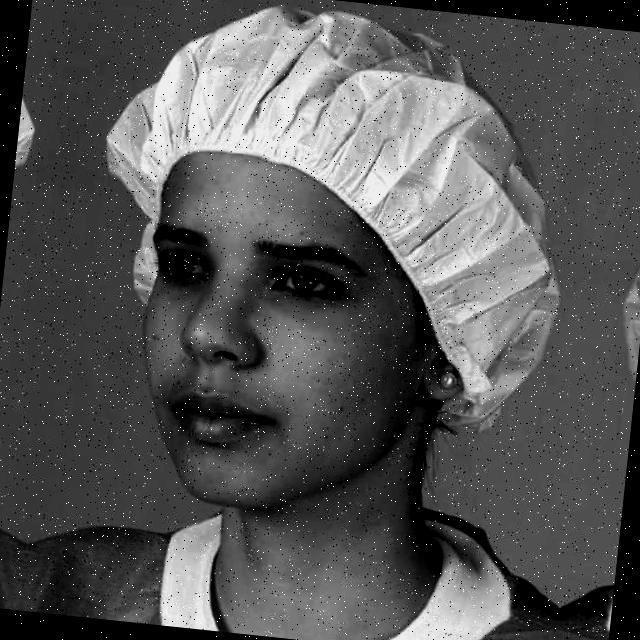gloves: (104, 11, 576, 237)
no_hairnet: (123, 332, 376, 492)
